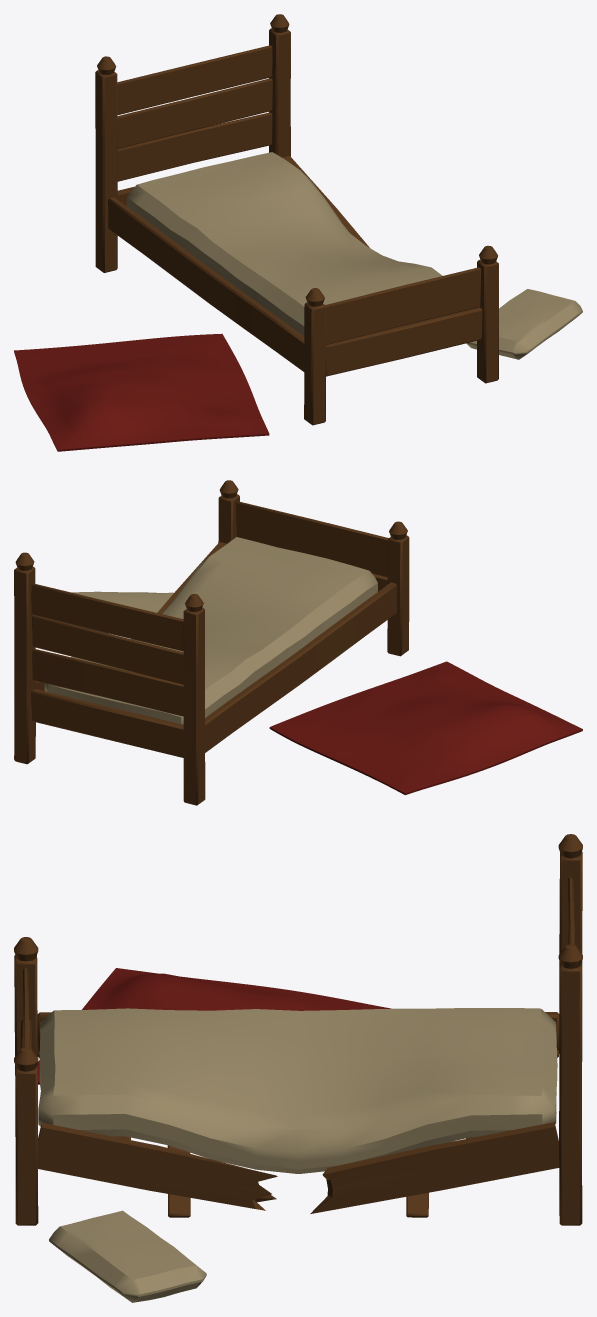
File: bett_kaputt.glb
3 views of the same model, one above another, from view 1: azimuth 30°, elevation 25°; view 2: azimuth 150°, elevation 25°; view 3: azimuth 270°, elevation 25° (orthographic). The views are drawn at different scales.
Parts seen in each view (by area): view 1: bett_kaputt; view 2: bett_kaputt; view 3: bett_kaputt.
Part boxes in pixels (box(x1,y1,x2,y2)): bett_kaputt: box(14, 14, 582, 451); bett_kaputt: box(14, 480, 582, 805); bett_kaputt: box(14, 834, 582, 1302).
Bounding box in the file's own units: 2.82 × 1.08 × 2.01.
